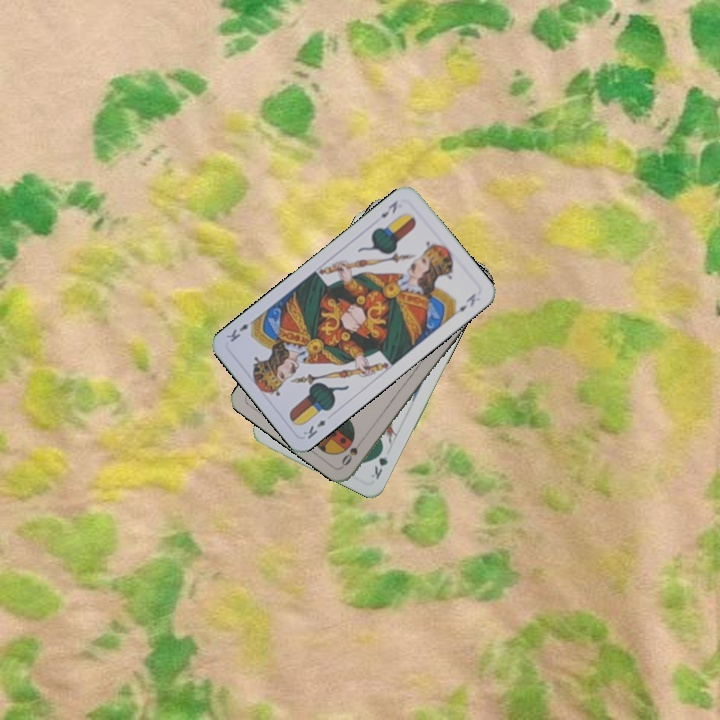EK: (299, 415, 328, 442), (376, 196, 400, 221)
GK: (367, 443, 390, 482)
SO: (337, 433, 367, 469)
